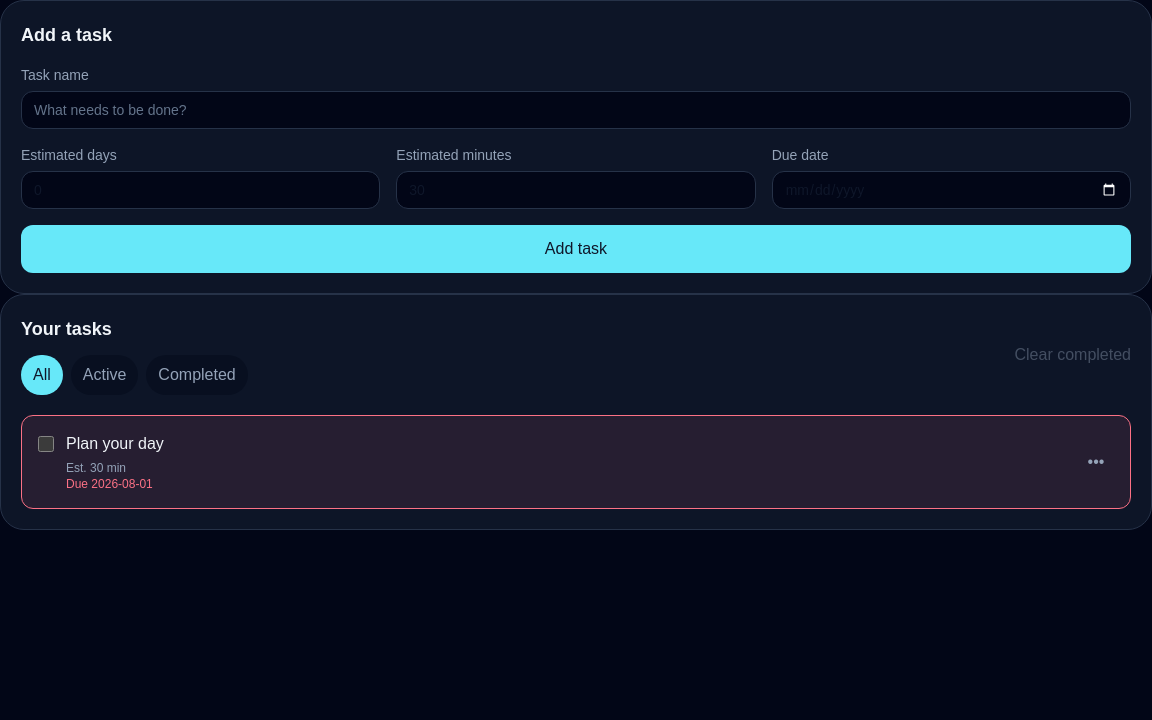
it: todo flow › accepts one-minute estimates
expect the text "Plan your day" is shown: met, box [66,432,164,456]
In the field labelled "Task name": (576, 110) [21,91,1131,129], type "Quick task"
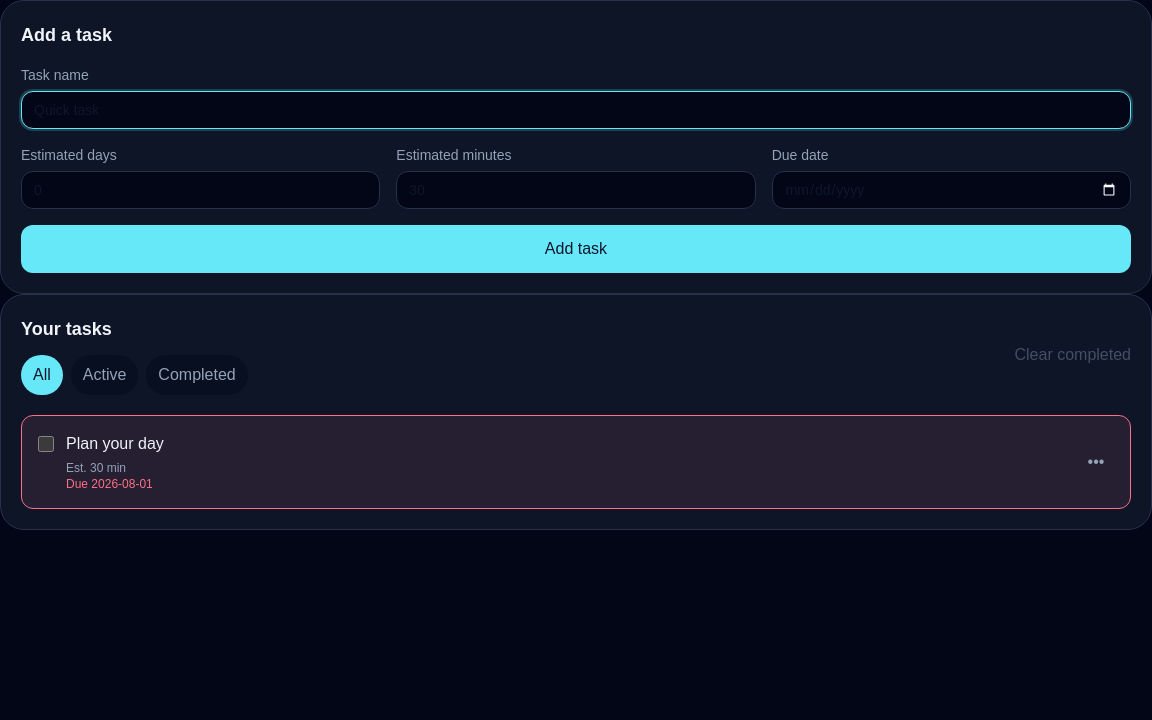
Replace the text in the number field labelled "Estimated minutes" with "1": (576, 190) [396,171,756,209]
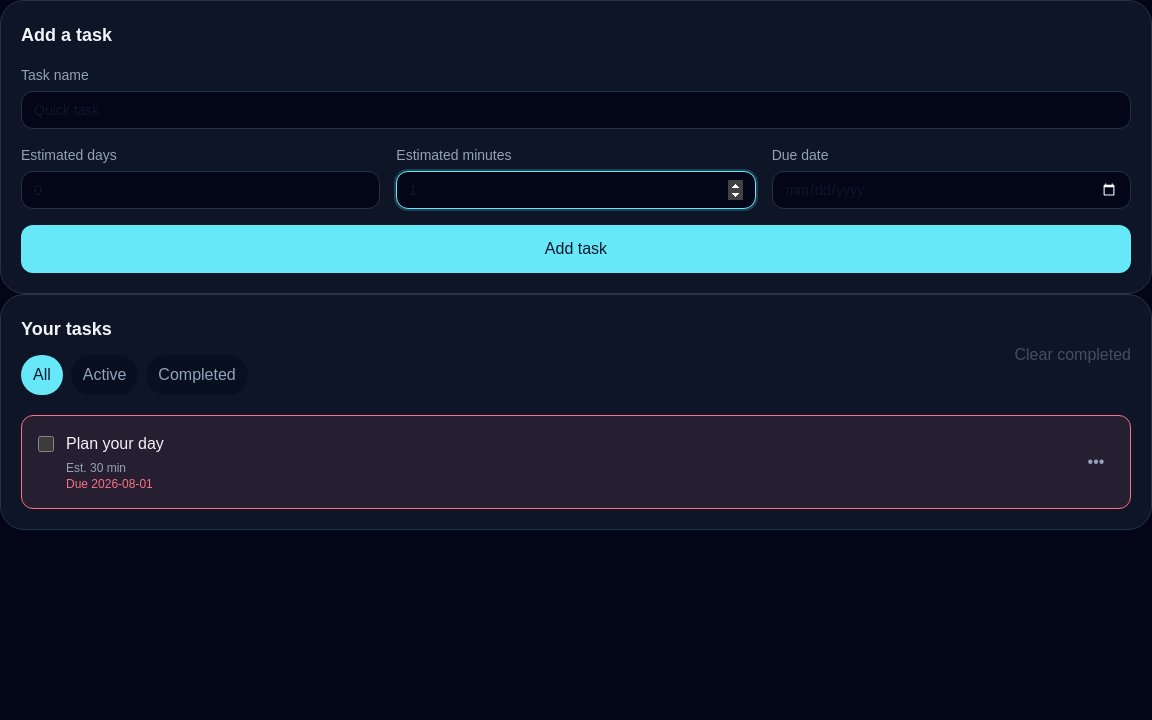
In the date field labelled "Due date": (951, 190) [772,171,1131,209], type "2026-08-15"
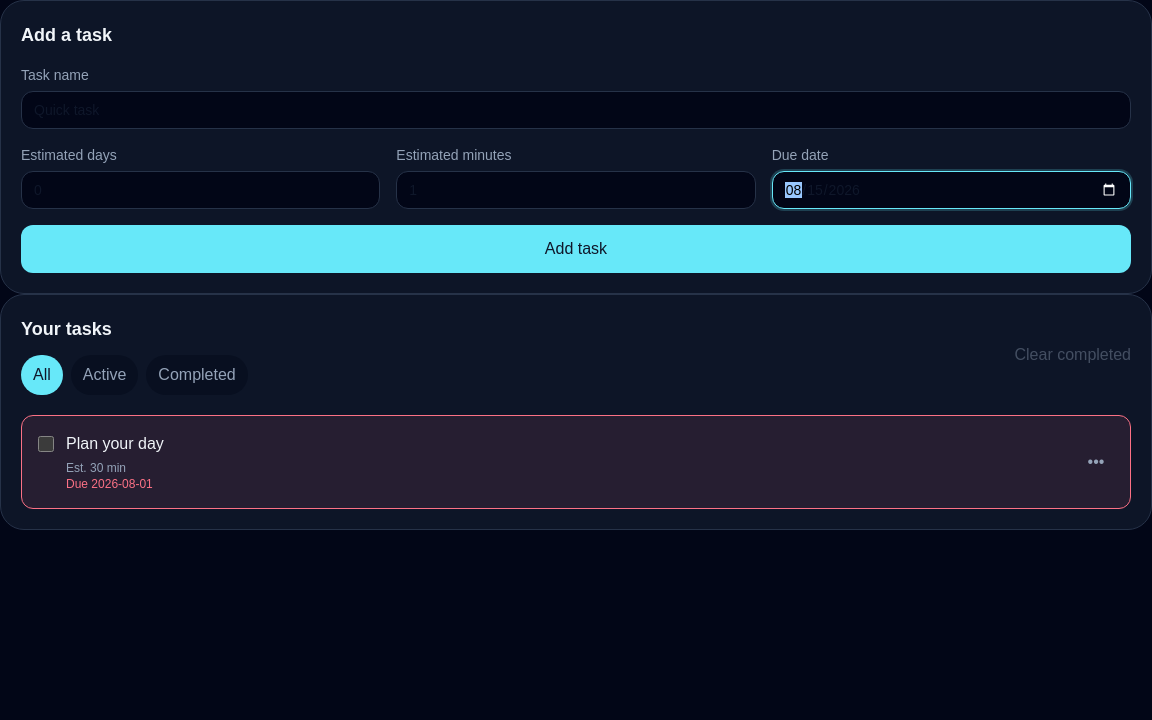
Click the button "Add task": (576, 249) [21,225,1131,273]
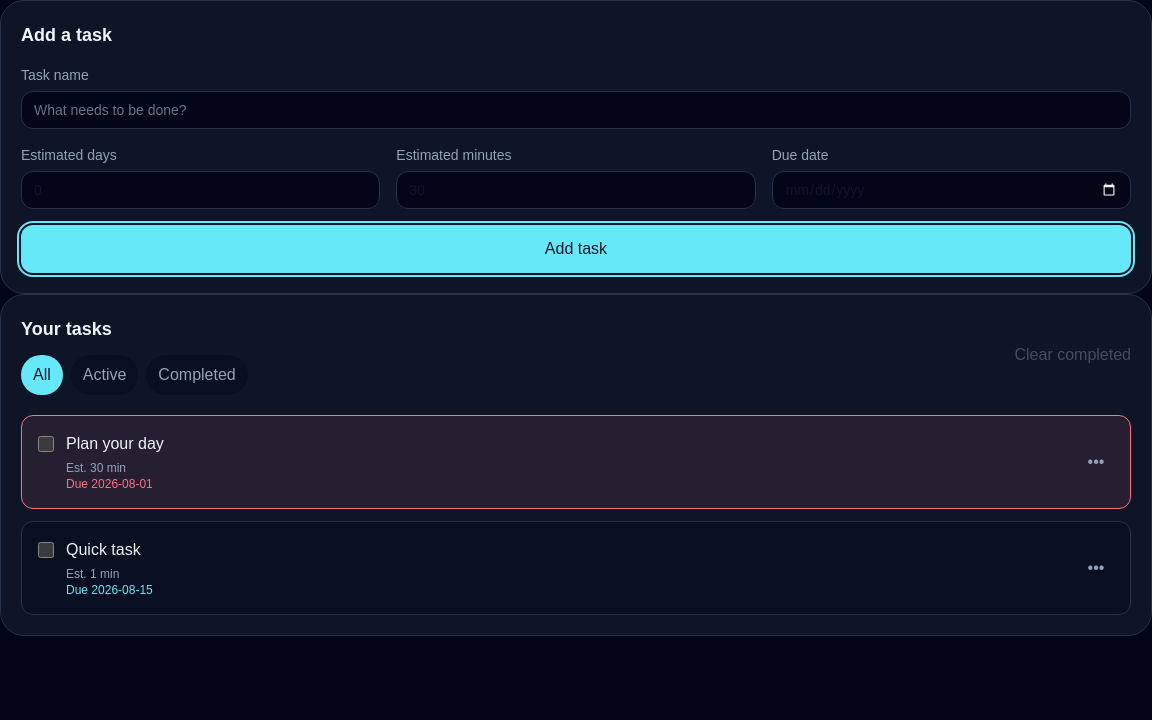
expect the text "Quick task" is shown: met, box [66,538,153,562]
expect the text "Est. 1 min" is shown: met, box [66,567,119,581]
